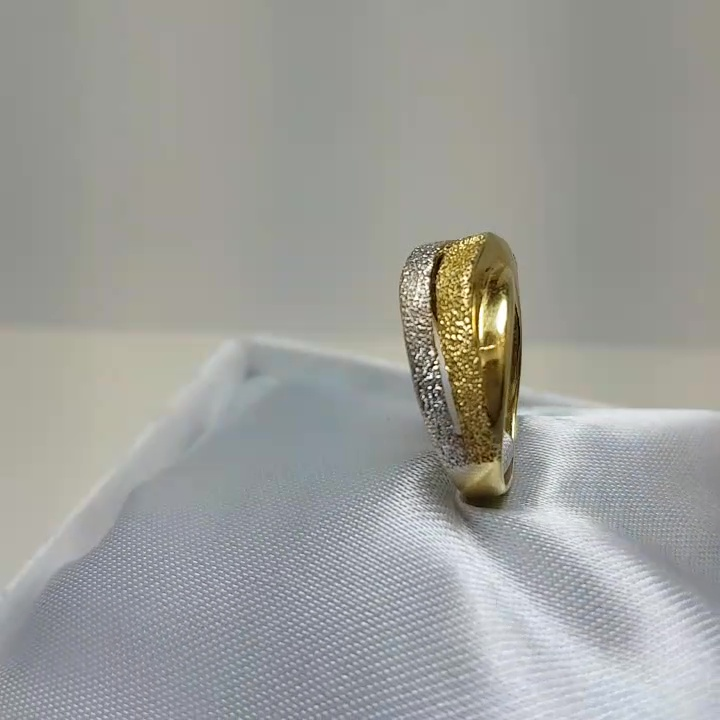Ring 5: (357, 214, 600, 527)
